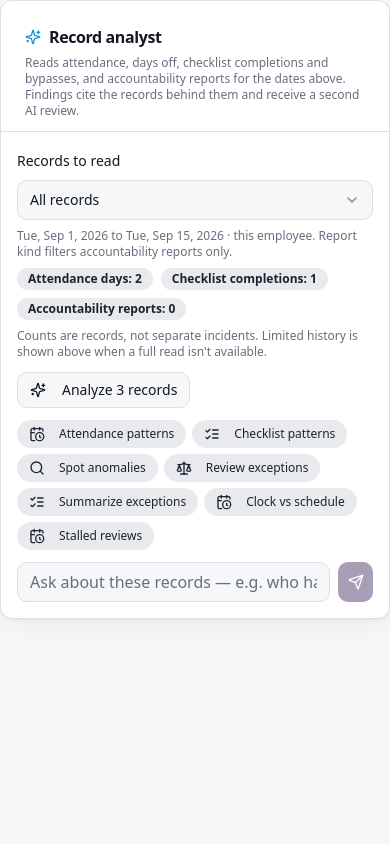
Test: expanded record analyst › counts attendance and checklists when no formal reports exist, preserving employee scope and citations
This screenshot has width=390, height=844.
Click the button "Analyze 3 records": [104, 390] box x1=17 y1=372 x2=190 y2=408
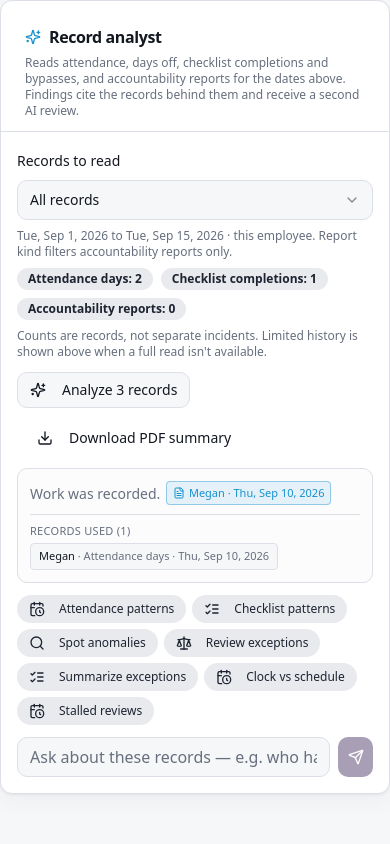
Now the text "Work was recorded." is shown, box x1=30 y1=484 x2=164 y2=503
Click the button "Megan · Thu, Sep 10, 2026": [249, 493] box x1=166 y1=481 x2=331 y2=505
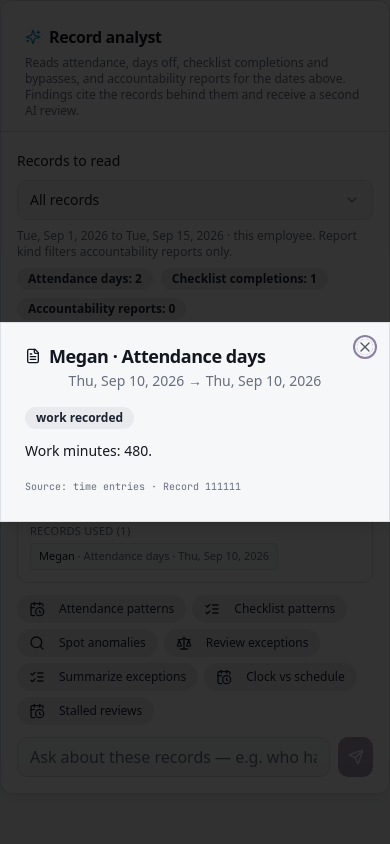
Now the text "Work minutes: 480." is shown, box x1=25 y1=441 x2=152 y2=460
Now the text "Source: time entries · Record 111111" is shown, box x1=25 y1=480 x2=241 y2=493
